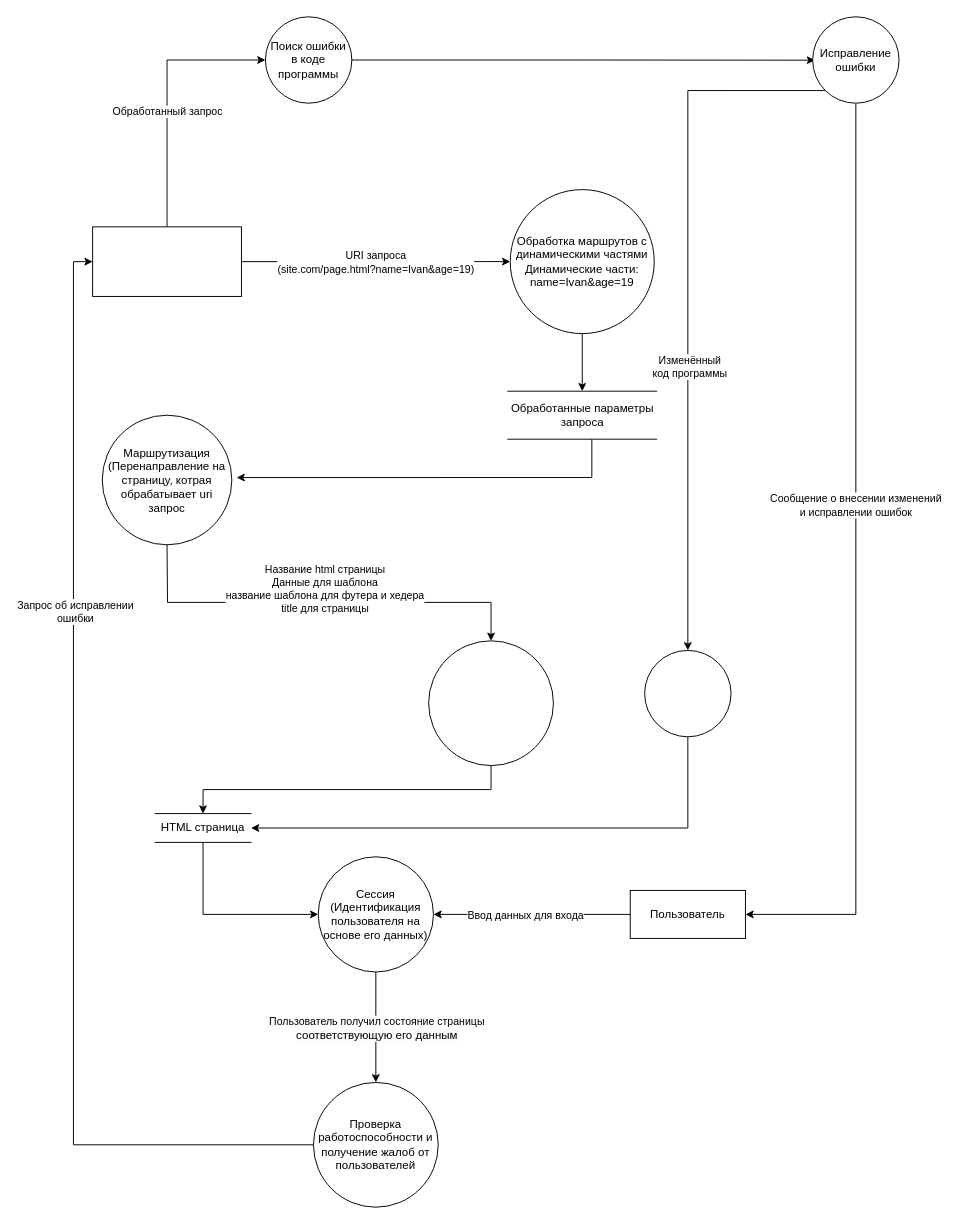
This 957x1224 diagram has some shape labels left out. The shapes that lost their labels are listed below. From the top down, each one's box as (x1, y1, x2, y2) in pixels, then its label:
(92, 226, 241, 296): Разработчик
(428, 640, 553, 766): Шаблонизация (Отображение страницы с переданными данными из uri)
(644, 649, 731, 737): Внесение изменений
